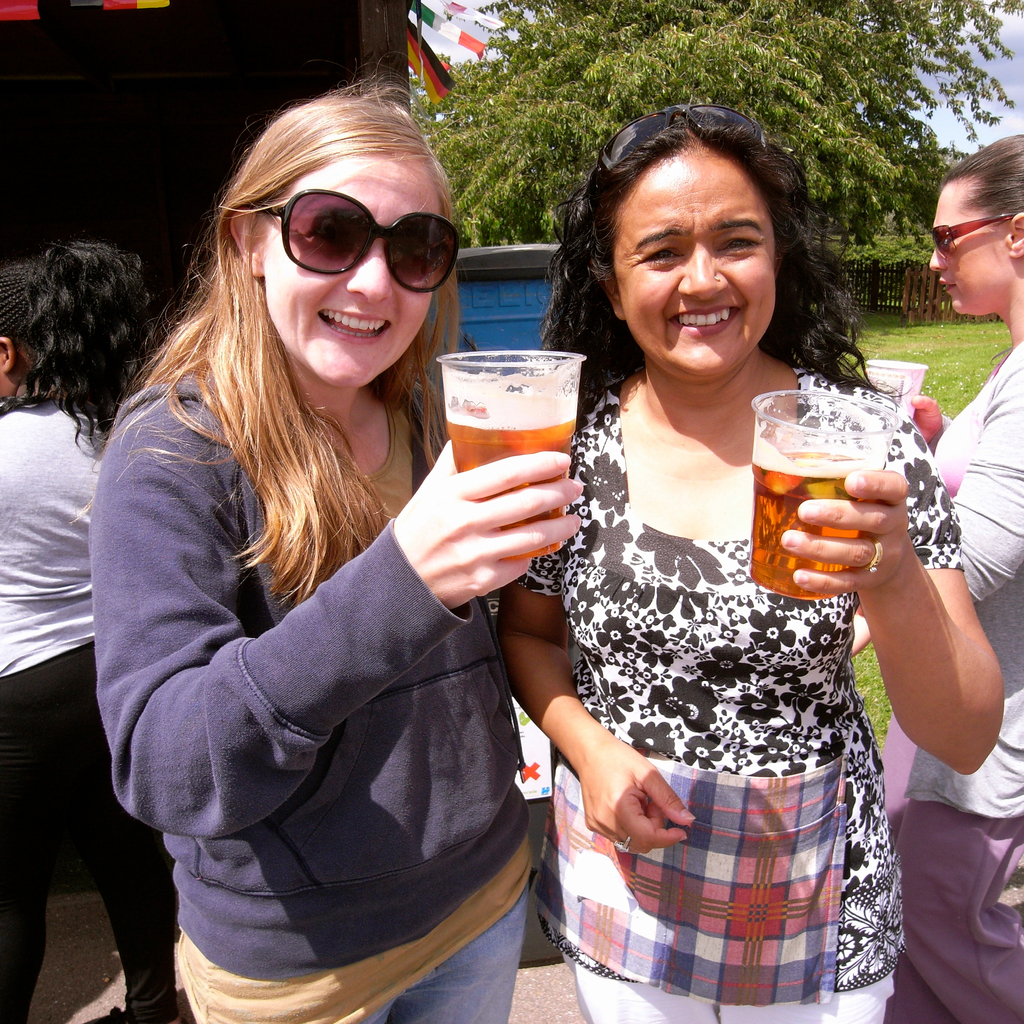Beer: (458, 392, 579, 557), (750, 452, 876, 588)
